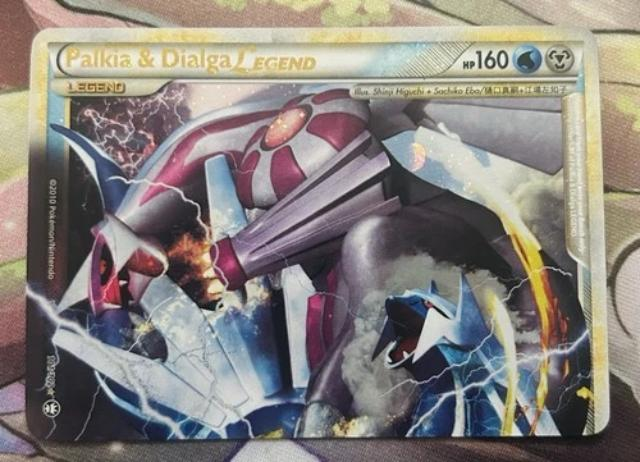Card: (23, 22, 615, 445)
Name: (61, 43, 319, 78)
